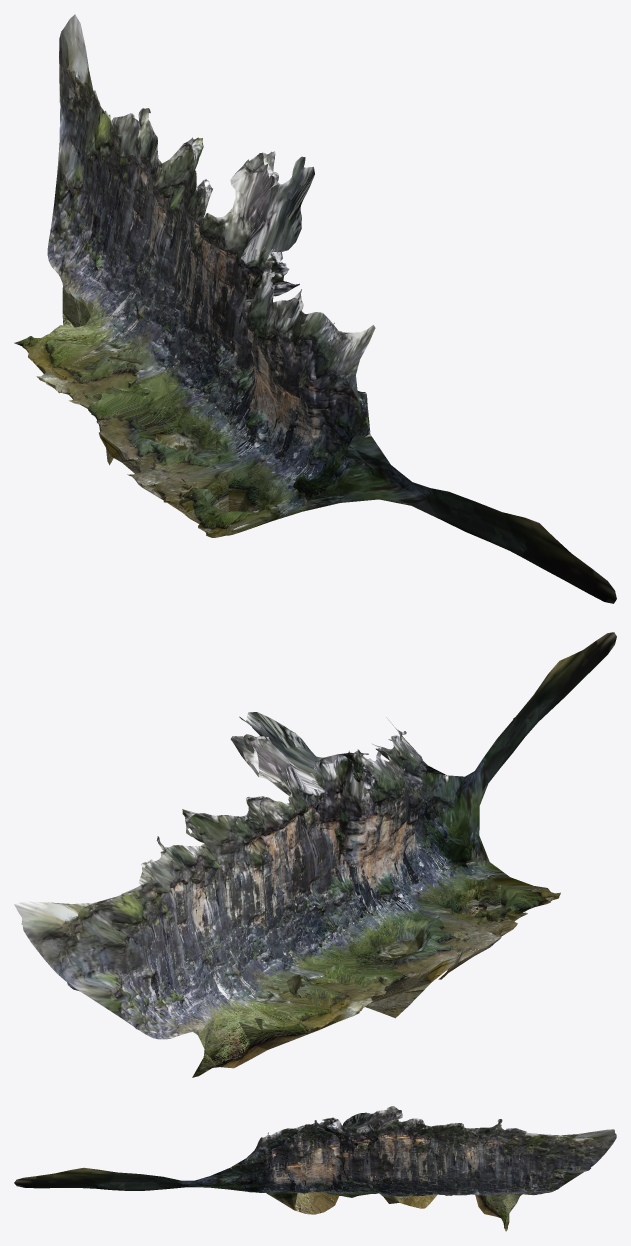
The model's file is map_98d558b1-50ca-4b1c-bd27-0d4047041470_densified_mesh_textured.obj.
3 renders of one model, top to bottom at view 1: azimuth 30°, elevation 25°; view 2: azimuth 150°, elevation 25°; view 3: azimuth 270°, elevation 25°, orthographic. The views are drawn at different scales.
Size of the model in its own units: 25.76 by 30.43 by 116.
Materials: 1 (1 with a texture image).
